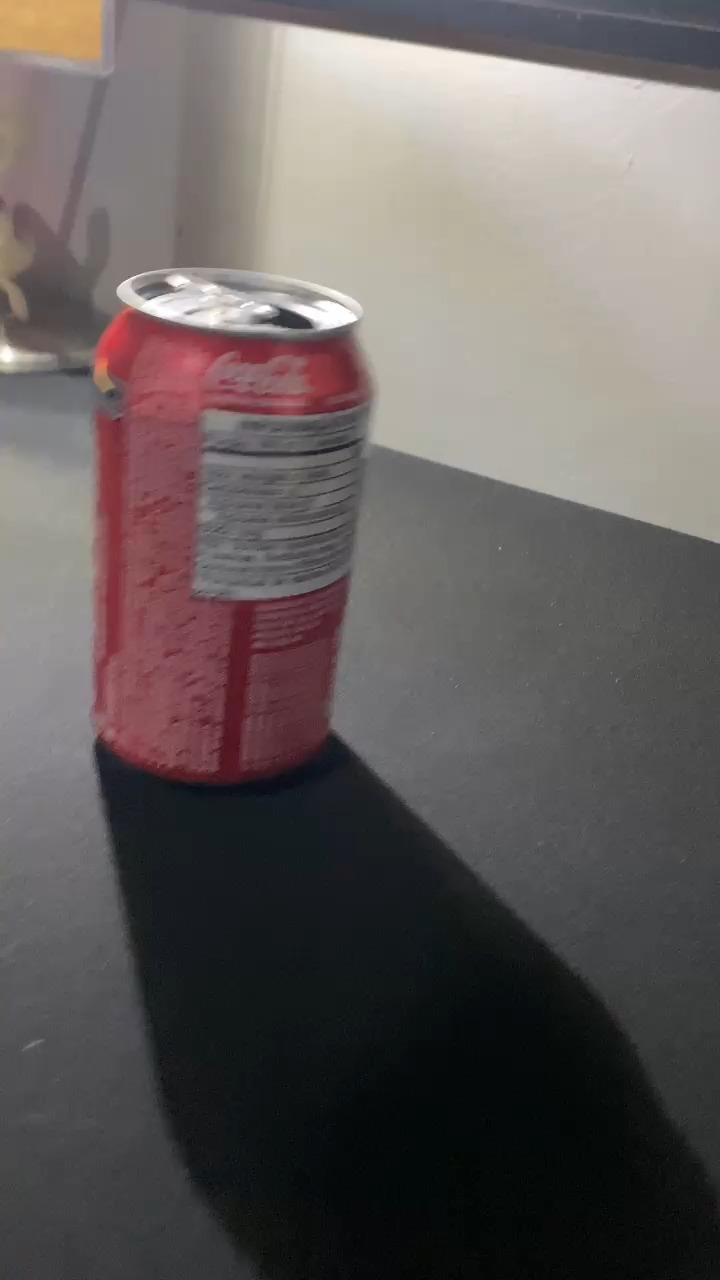coke: (88, 276, 377, 788)
